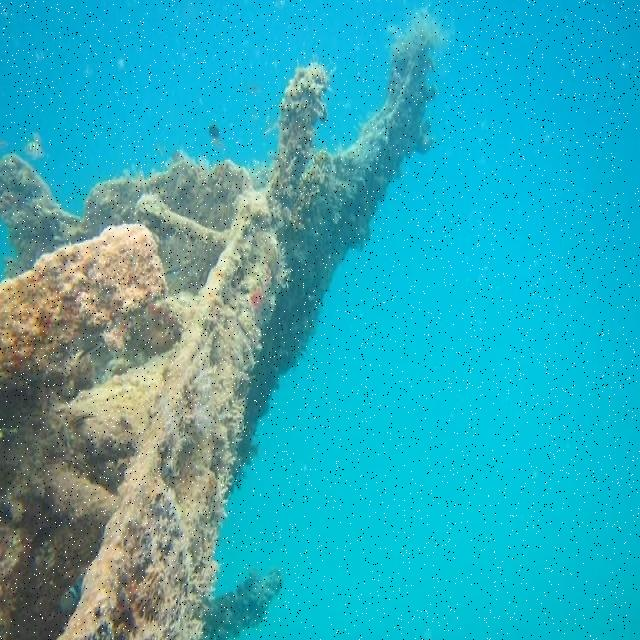wrecks-ruins: (0, 8, 436, 639)
